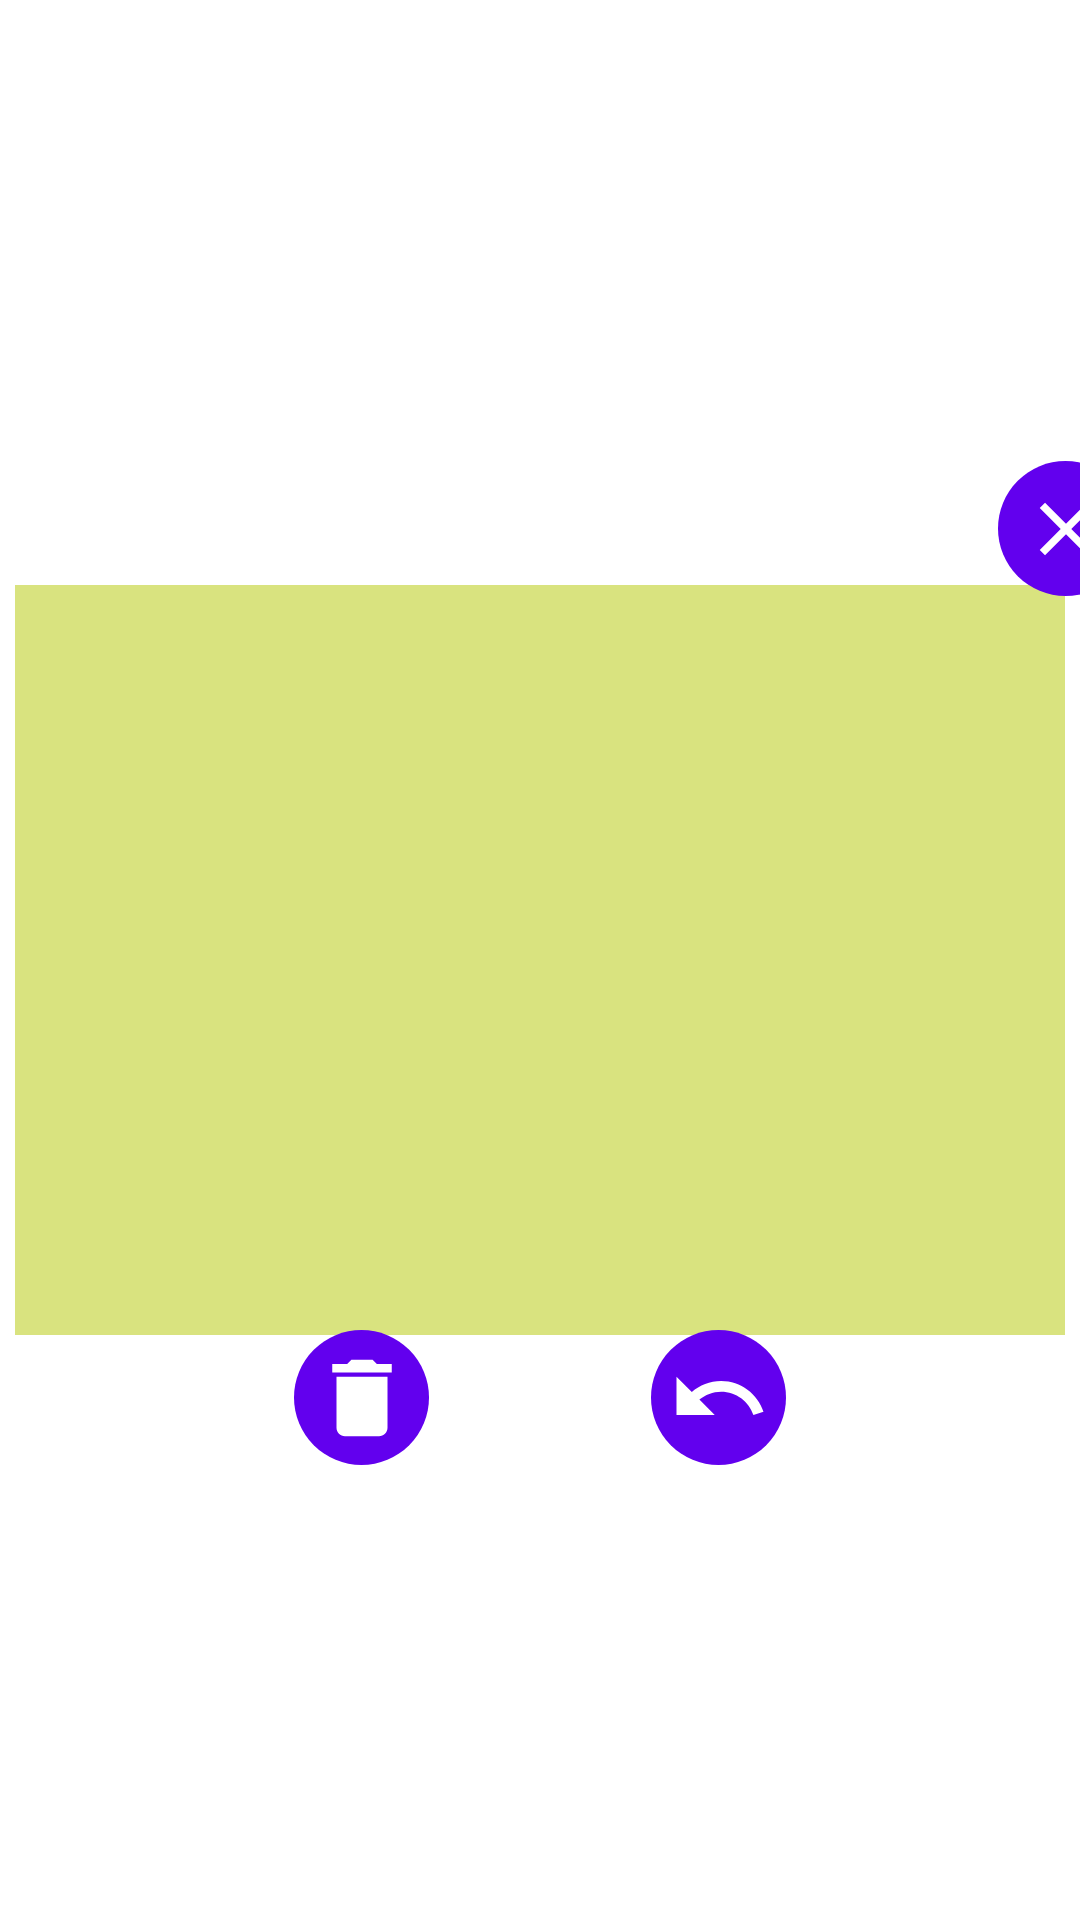

Screen size 1080 x 1920. Icon name, then its center in pixels as (x=x, y=y):
delete: (x=361, y=1397)
undo: (x=718, y=1397)
